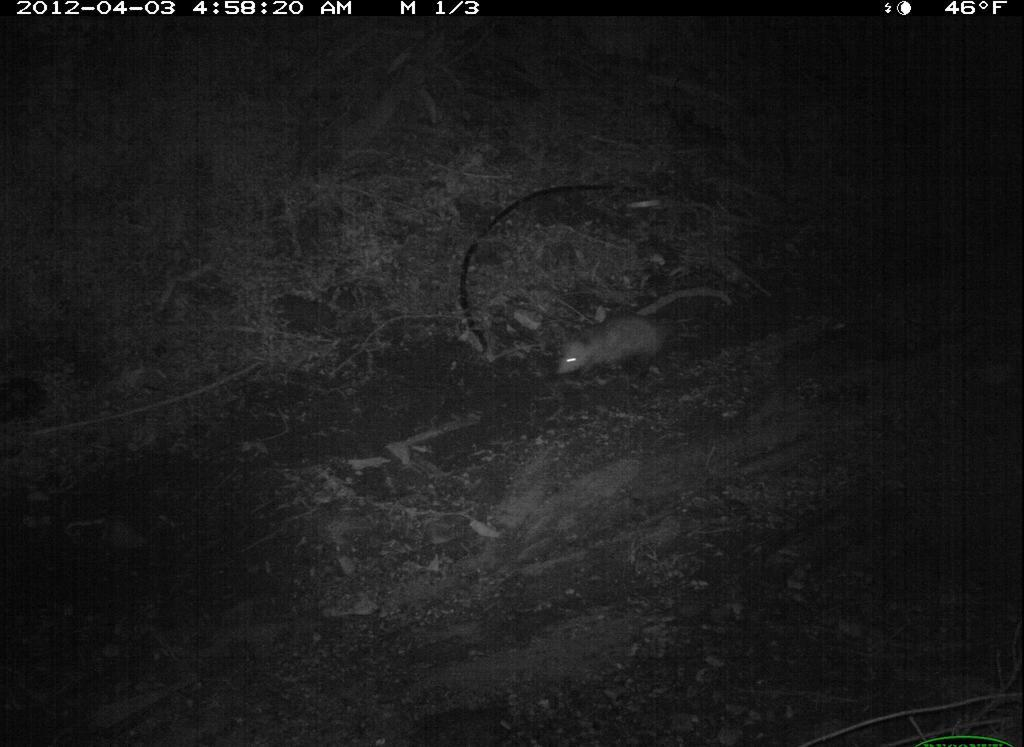opossum: (546, 301, 738, 392)
